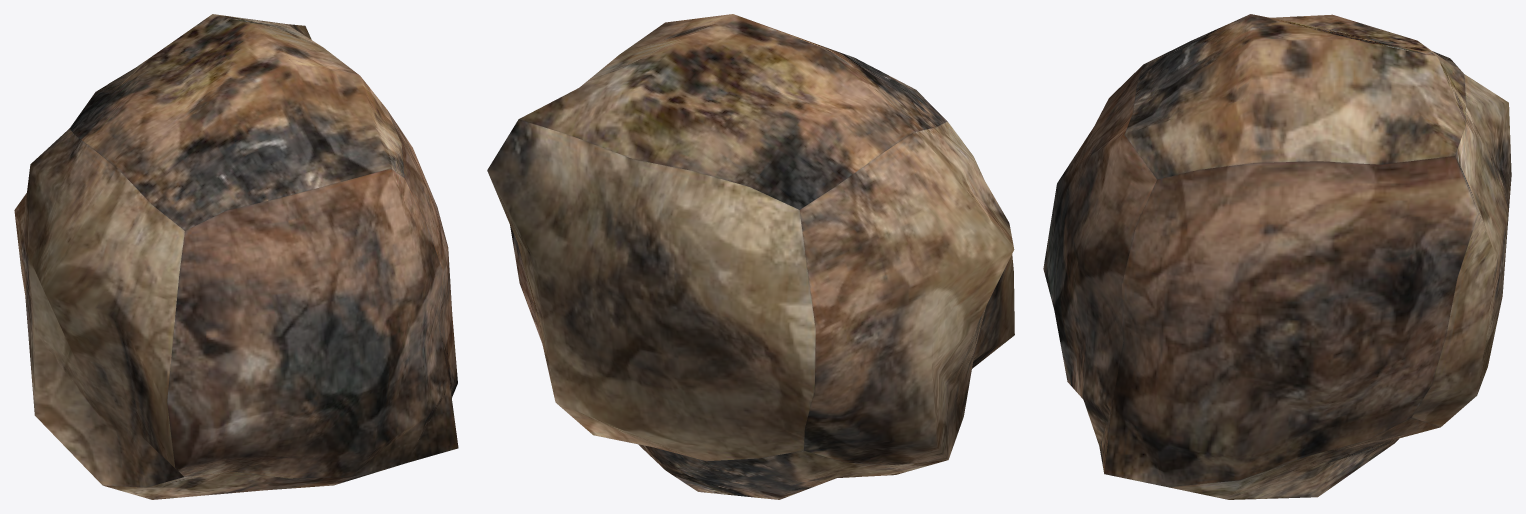
File: rock_d_02.obj
The picture shows the model from 3 angles, left to right: view 1: azimuth 30°, elevation 25°; view 2: azimuth 150°, elevation 25°; view 3: azimuth 270°, elevation 25°; orthographic projection. The views are drawn at different scales.
Visible parts, largest first — view 1: rockLP001; view 2: rockLP001; view 3: rockLP001.
Boxes of the visible parts, left/top/right/bottom form: rockLP001: left=14, top=14, right=458, bottom=499; rockLP001: left=487, top=14, right=1014, bottom=499; rockLP001: left=1043, top=14, right=1511, bottom=499.
Bounding box in the file's own units: 2.51 × 2.48 × 2.3.
